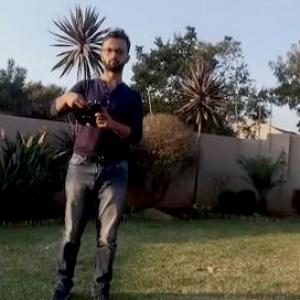follow: (43, 21, 147, 299)
